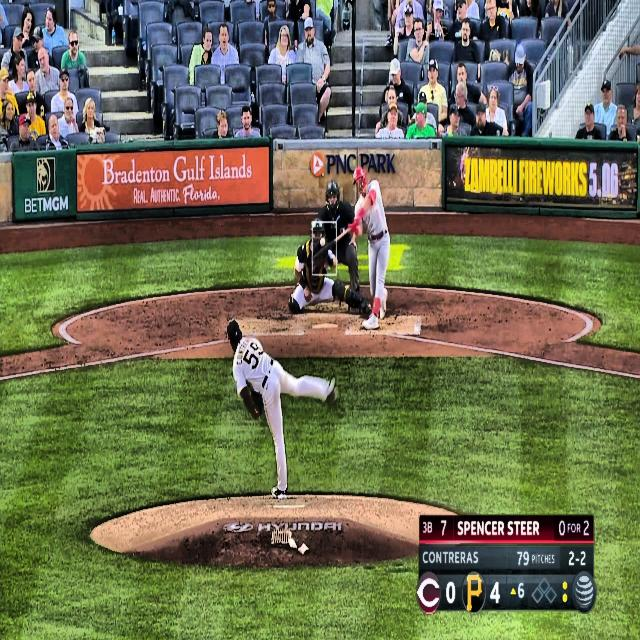baseball: (319, 237, 326, 248)
